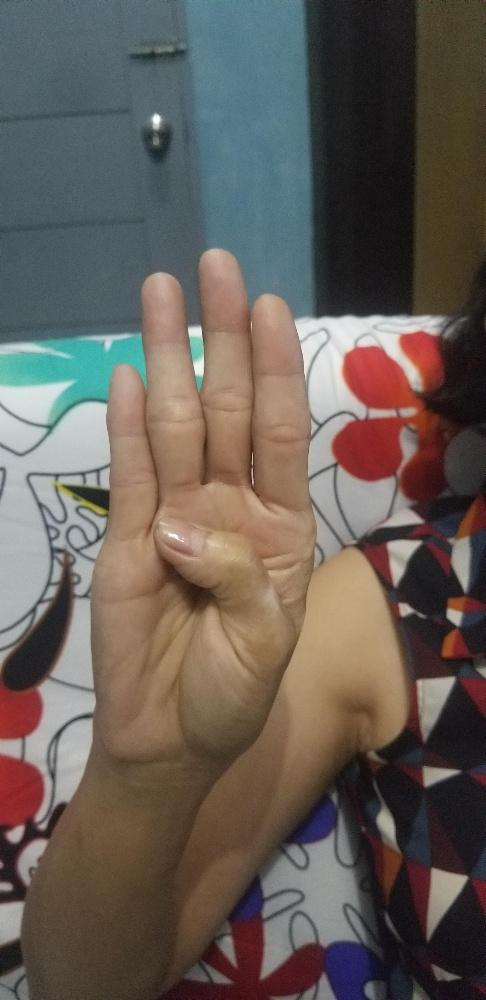b: (85, 244, 319, 767)
